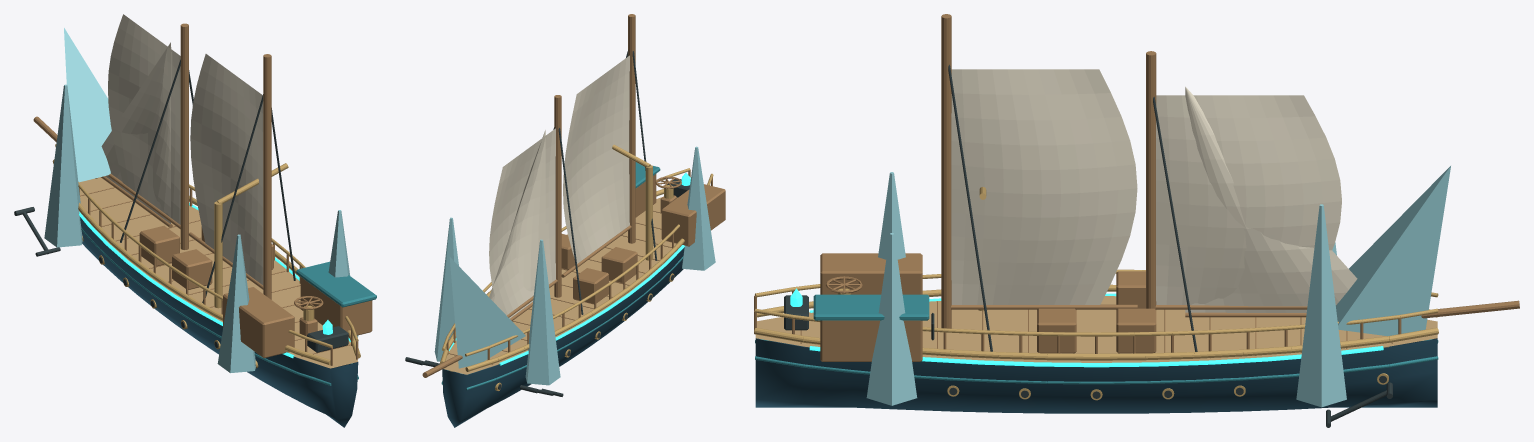
The model's file is premium_salvage_schooner.glb.
The picture shows the model from 3 angles, left to right: view 1: azimuth 30°, elevation 25°; view 2: azimuth 150°, elevation 25°; view 3: azimuth 270°, elevation 25°; orthographic projection. The views are drawn at different scales.
Parts seen in each view (by area): view 1: premium_salvage_schooner; view 2: premium_salvage_schooner; view 3: premium_salvage_schooner.
Boxes of the visible parts, box(x1,y1,x2,y2) form: premium_salvage_schooner: box(14, 14, 376, 427); premium_salvage_schooner: box(405, 14, 725, 427); premium_salvage_schooner: box(754, 14, 1519, 427).
Bounding box in the file's own units: 3.86 × 7.6 × 13.47.
